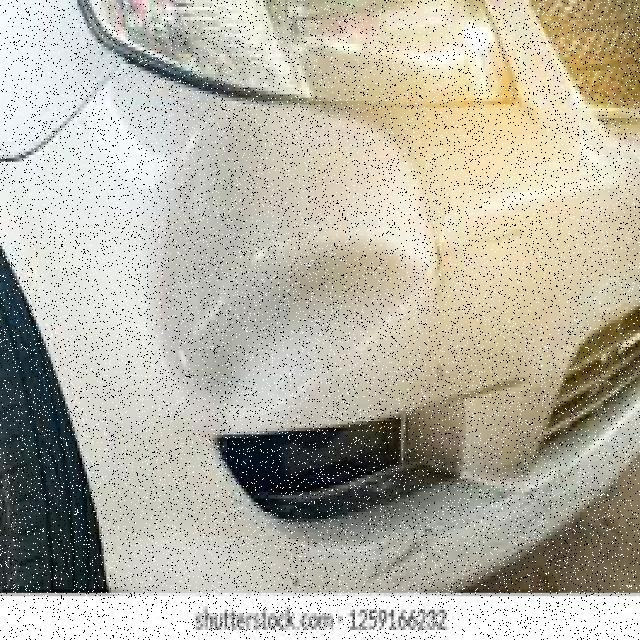front-bumper-dent: (5, 105, 447, 590), (7, 384, 626, 603)
